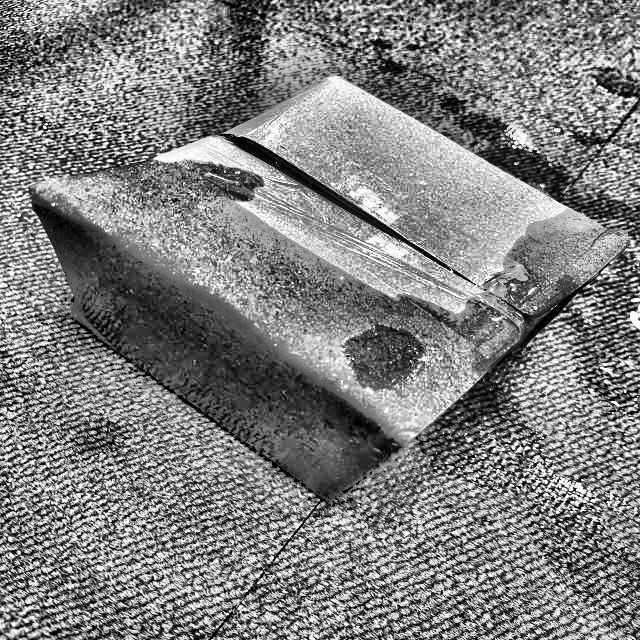box: (26, 67, 634, 508)
wet: (31, 159, 498, 497), (488, 196, 632, 332)
